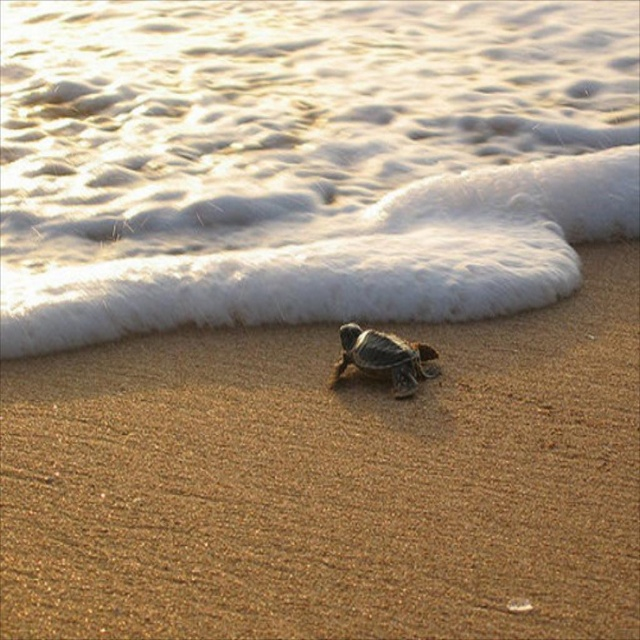Sea turtle: (326, 321, 442, 400)
